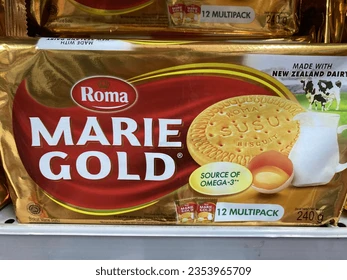Roma Marie Gold (240g): (2, 33, 329, 182)
